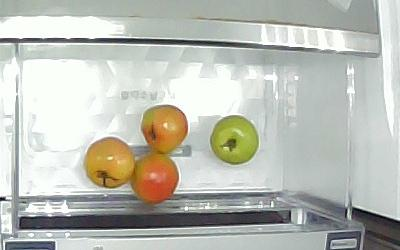tomato: (84, 137, 136, 188), (131, 152, 180, 203), (211, 115, 259, 166), (141, 105, 189, 153)
